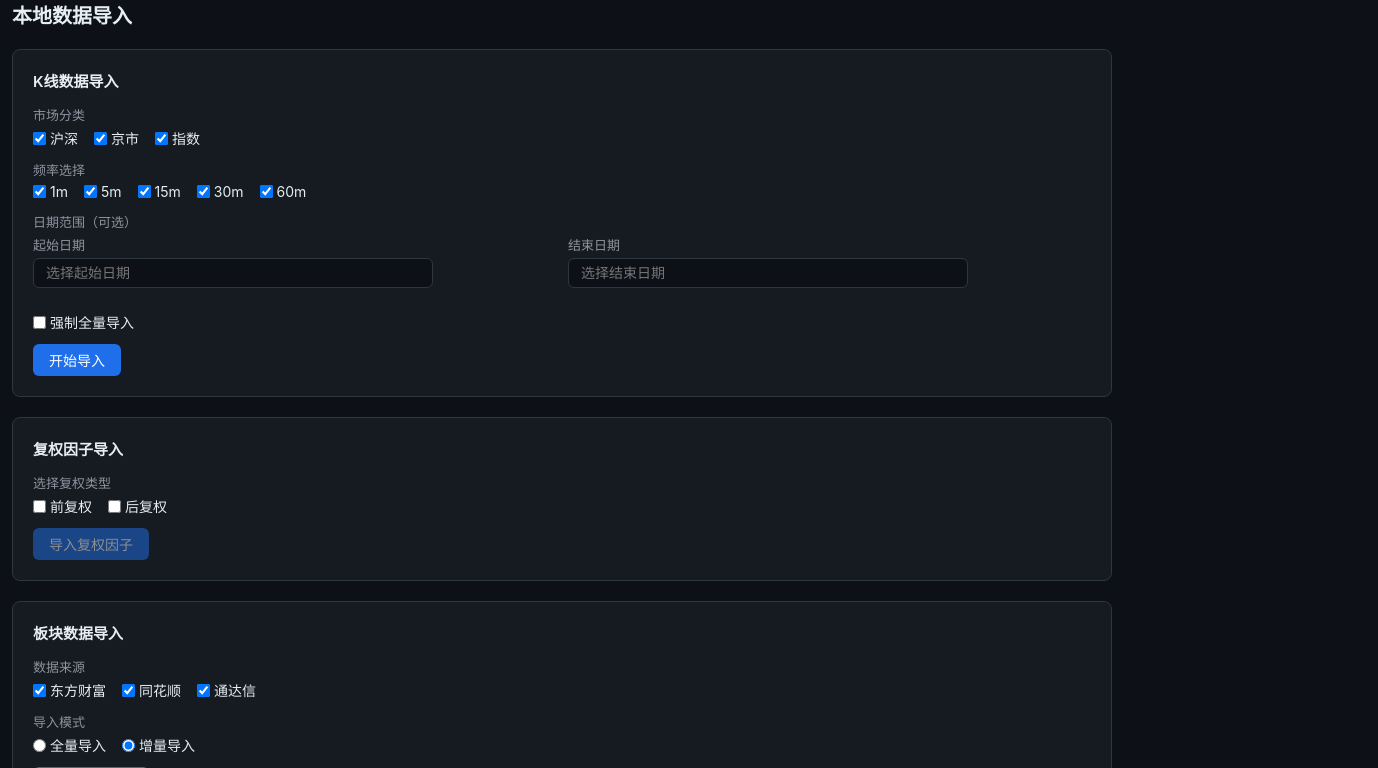
Test case: LocalImportView › 任务完成后停止轮询
Note: Trigger import
Click the button with aria-label "开始导入": [77, 360] box left=33, top=344, right=121, bottom=376
Wait 15000 ms
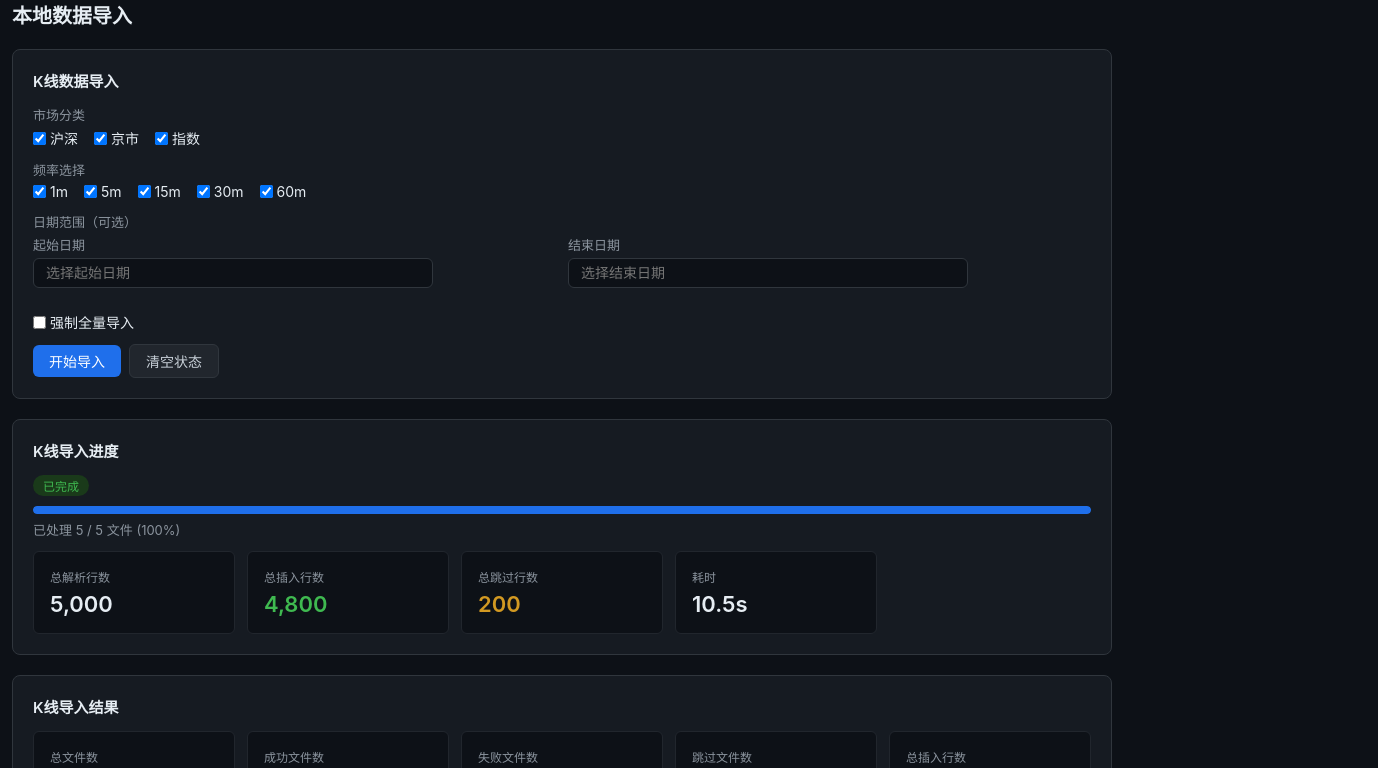
Result: the text "K线导入结果" is shown at left=33, top=698, right=119, bottom=717
